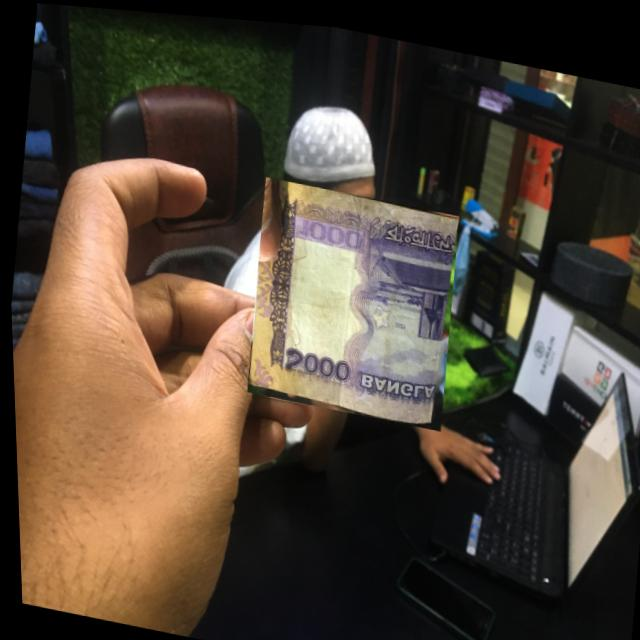Taka: (238, 170, 464, 425)
